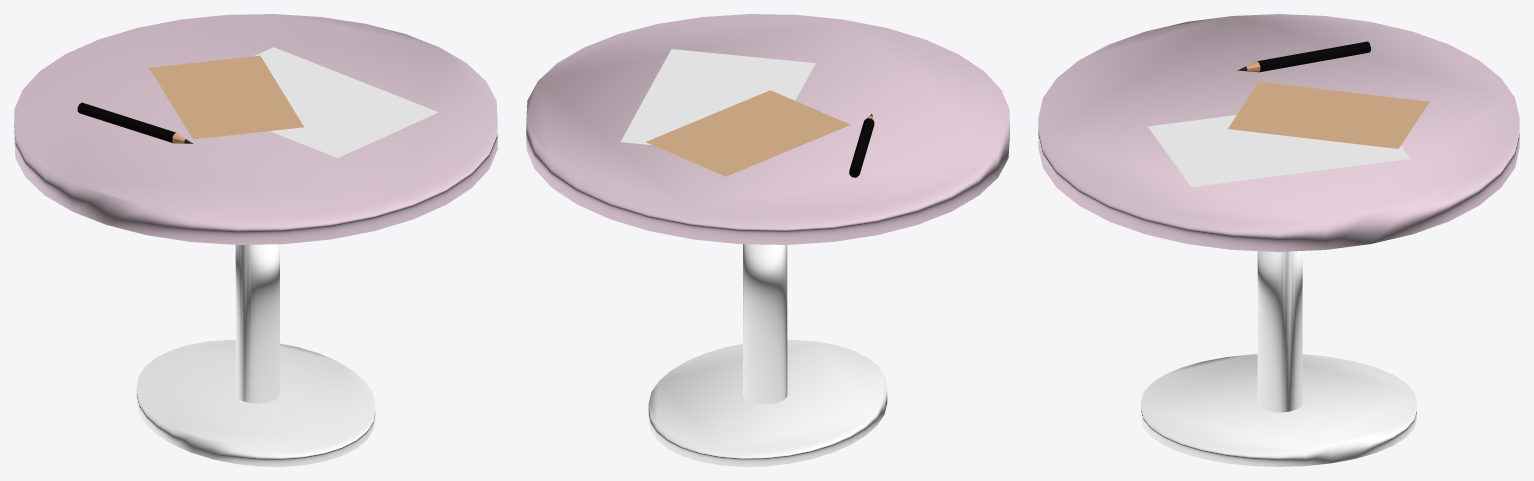
The model's file is table1.glb.
3 views of the same model, side by side, from view 1: azimuth 30°, elevation 25°; view 2: azimuth 150°, elevation 25°; view 3: azimuth 270°, elevation 25° (orthographic).
Visible parts, largest first — view 1: table; view 2: table; view 3: table.
Part boxes in pixels (bbox=[...]): table: bbox=[14, 14, 497, 466]; table: bbox=[526, 14, 1009, 466]; table: bbox=[1038, 14, 1519, 466].
Size of the model in its own units: 2.48 by 1.73 by 2.41.
